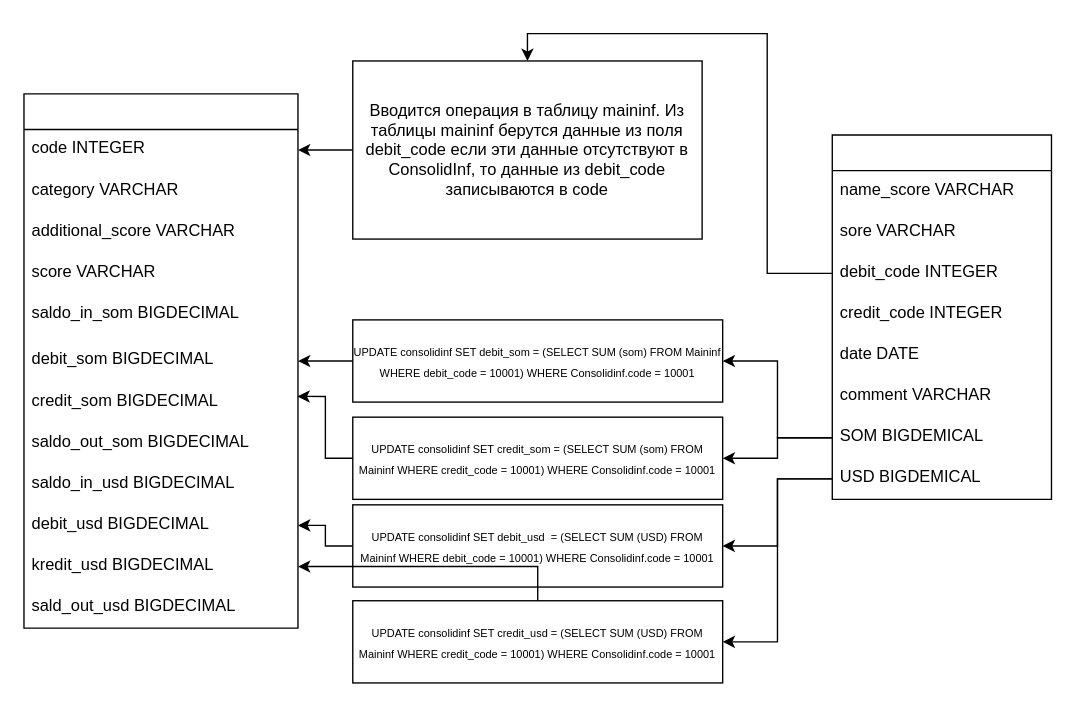
This 1075x707 diagram has some shape labels left out. The box of each missing label's shape, as (x1, y1, x2, y2) in pixels:
ConsolidINF: (23, 92, 298, 628)
Maininf: (831, 134, 1051, 499)
